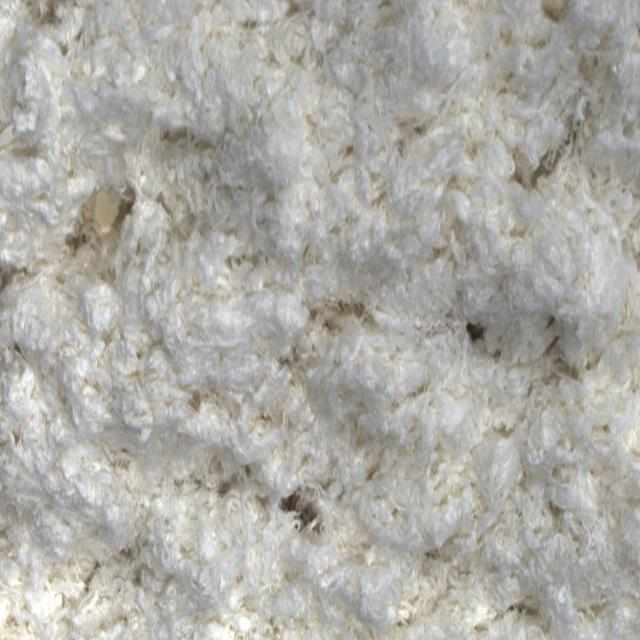dust: (72, 183, 135, 245)
